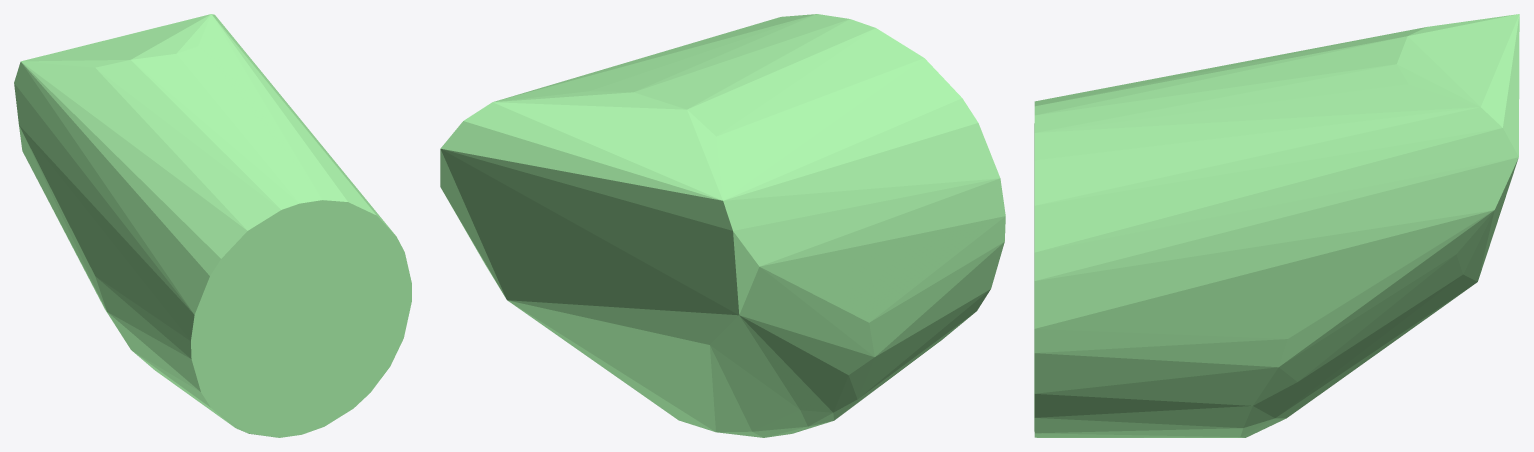
File: panda_link3_resp_coll_1.dae
3 views of the same model, side by side, from view 1: azimuth 30°, elevation 25°; view 2: azimuth 150°, elevation 25°; view 3: azimuth 270°, elevation 25° (orthographic). The views are drawn at different scales.
Parts seen in each view (by area): view 1: node; view 2: node; view 3: node.
Boxes of the visible parts, x1,y1,x2,y2 form: node: (14, 14, 411, 437); node: (440, 14, 1005, 437); node: (1034, 14, 1519, 437).
Bounding box in the file's own units: 0.11 × 0.1323 × 0.1584.
